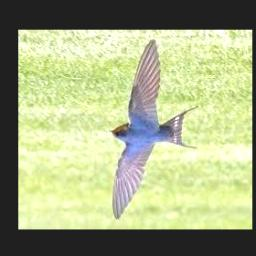Swallow: (109, 39, 197, 220)
